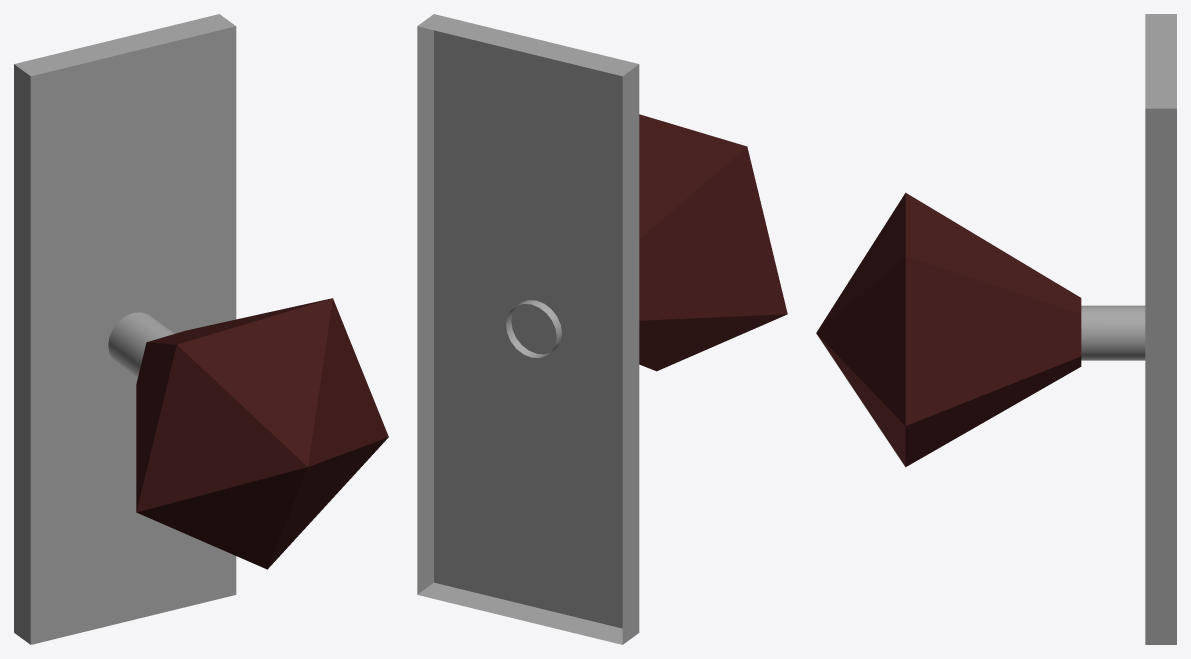
File: BathDoorHandle.fbx
3 renders of one model, left to right at view 1: azimuth 30°, elevation 25°; view 2: azimuth 150°, elevation 25°; view 3: azimuth 270°, elevation 25°, orthographic. The views are drawn at different scales.
Visible parts, largest first — view 1: pCube42, pPlatonic1, pCylinder3; view 2: pCube42, pPlatonic1, pCylinder3; view 3: pPlatonic1, pCube42, pCylinder3.
Part boxes in pixels (bbox=[...]): pCube42: bbox=[14, 14, 236, 644]; pPlatonic1: bbox=[136, 298, 388, 569]; pCylinder3: bbox=[108, 312, 174, 378]; pCube42: bbox=[417, 14, 639, 644]; pPlatonic1: bbox=[639, 114, 787, 371]; pCylinder3: bbox=[506, 300, 561, 358]; pPlatonic1: bbox=[816, 192, 1081, 467]; pCube42: bbox=[1145, 14, 1176, 644]; pCylinder3: bbox=[1081, 305, 1145, 360].
Bounding box in the file's own units: 0.2486 × 0.5349 × 0.326.
